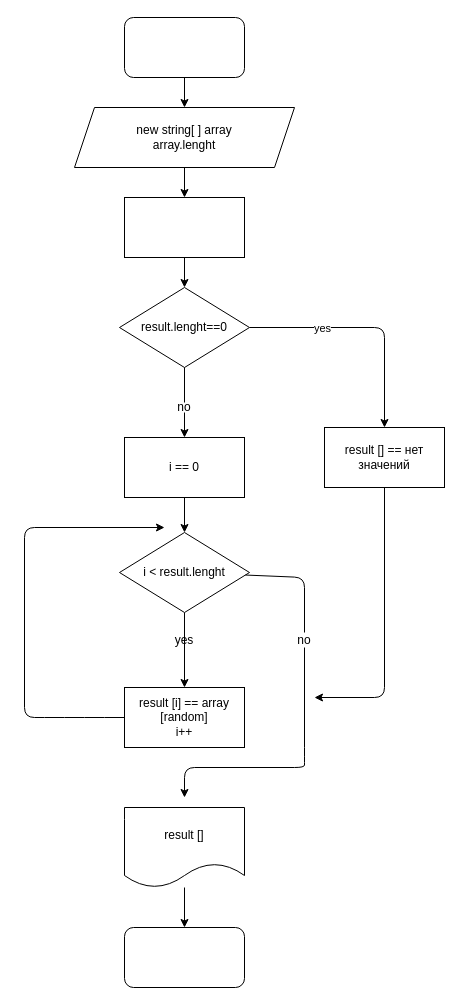
Some shapes in this 462 by 1005 pixel diagram are drawn without their labels. Here are the shapes that lost their labels. From the top down, the centre of each, then its label:
(x=184, y=47): начало
(x=184, y=227): new string[ ] result result.lenght = random(0,3)
(x=184, y=957): конец
